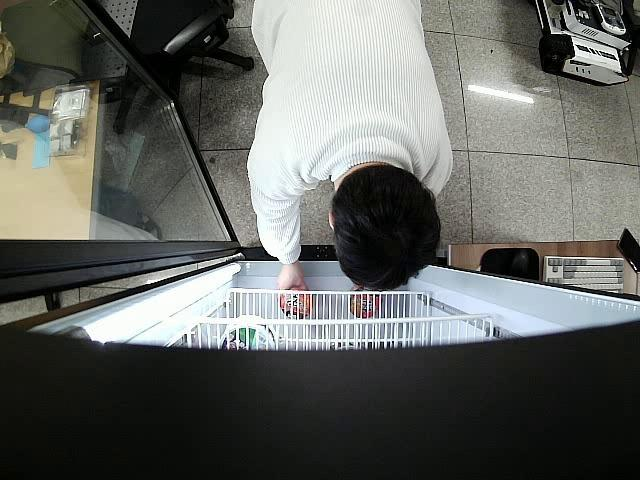02_shinRamen_S: (280, 286, 314, 318)
